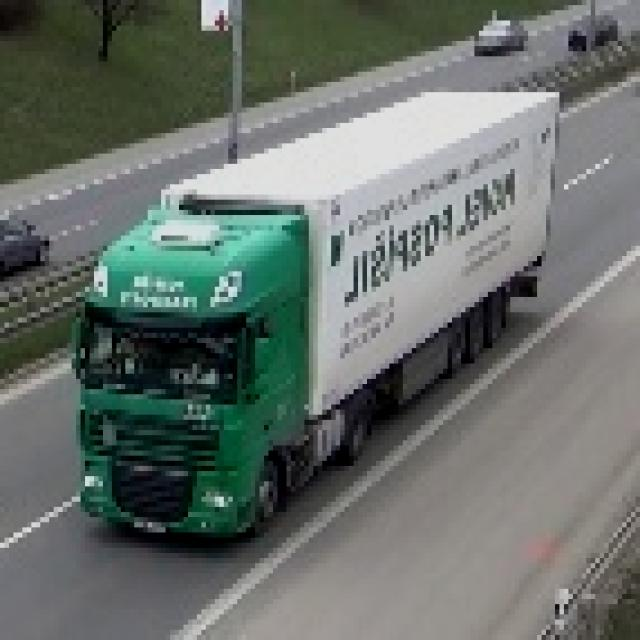TRUCK: (65, 91, 552, 544)
